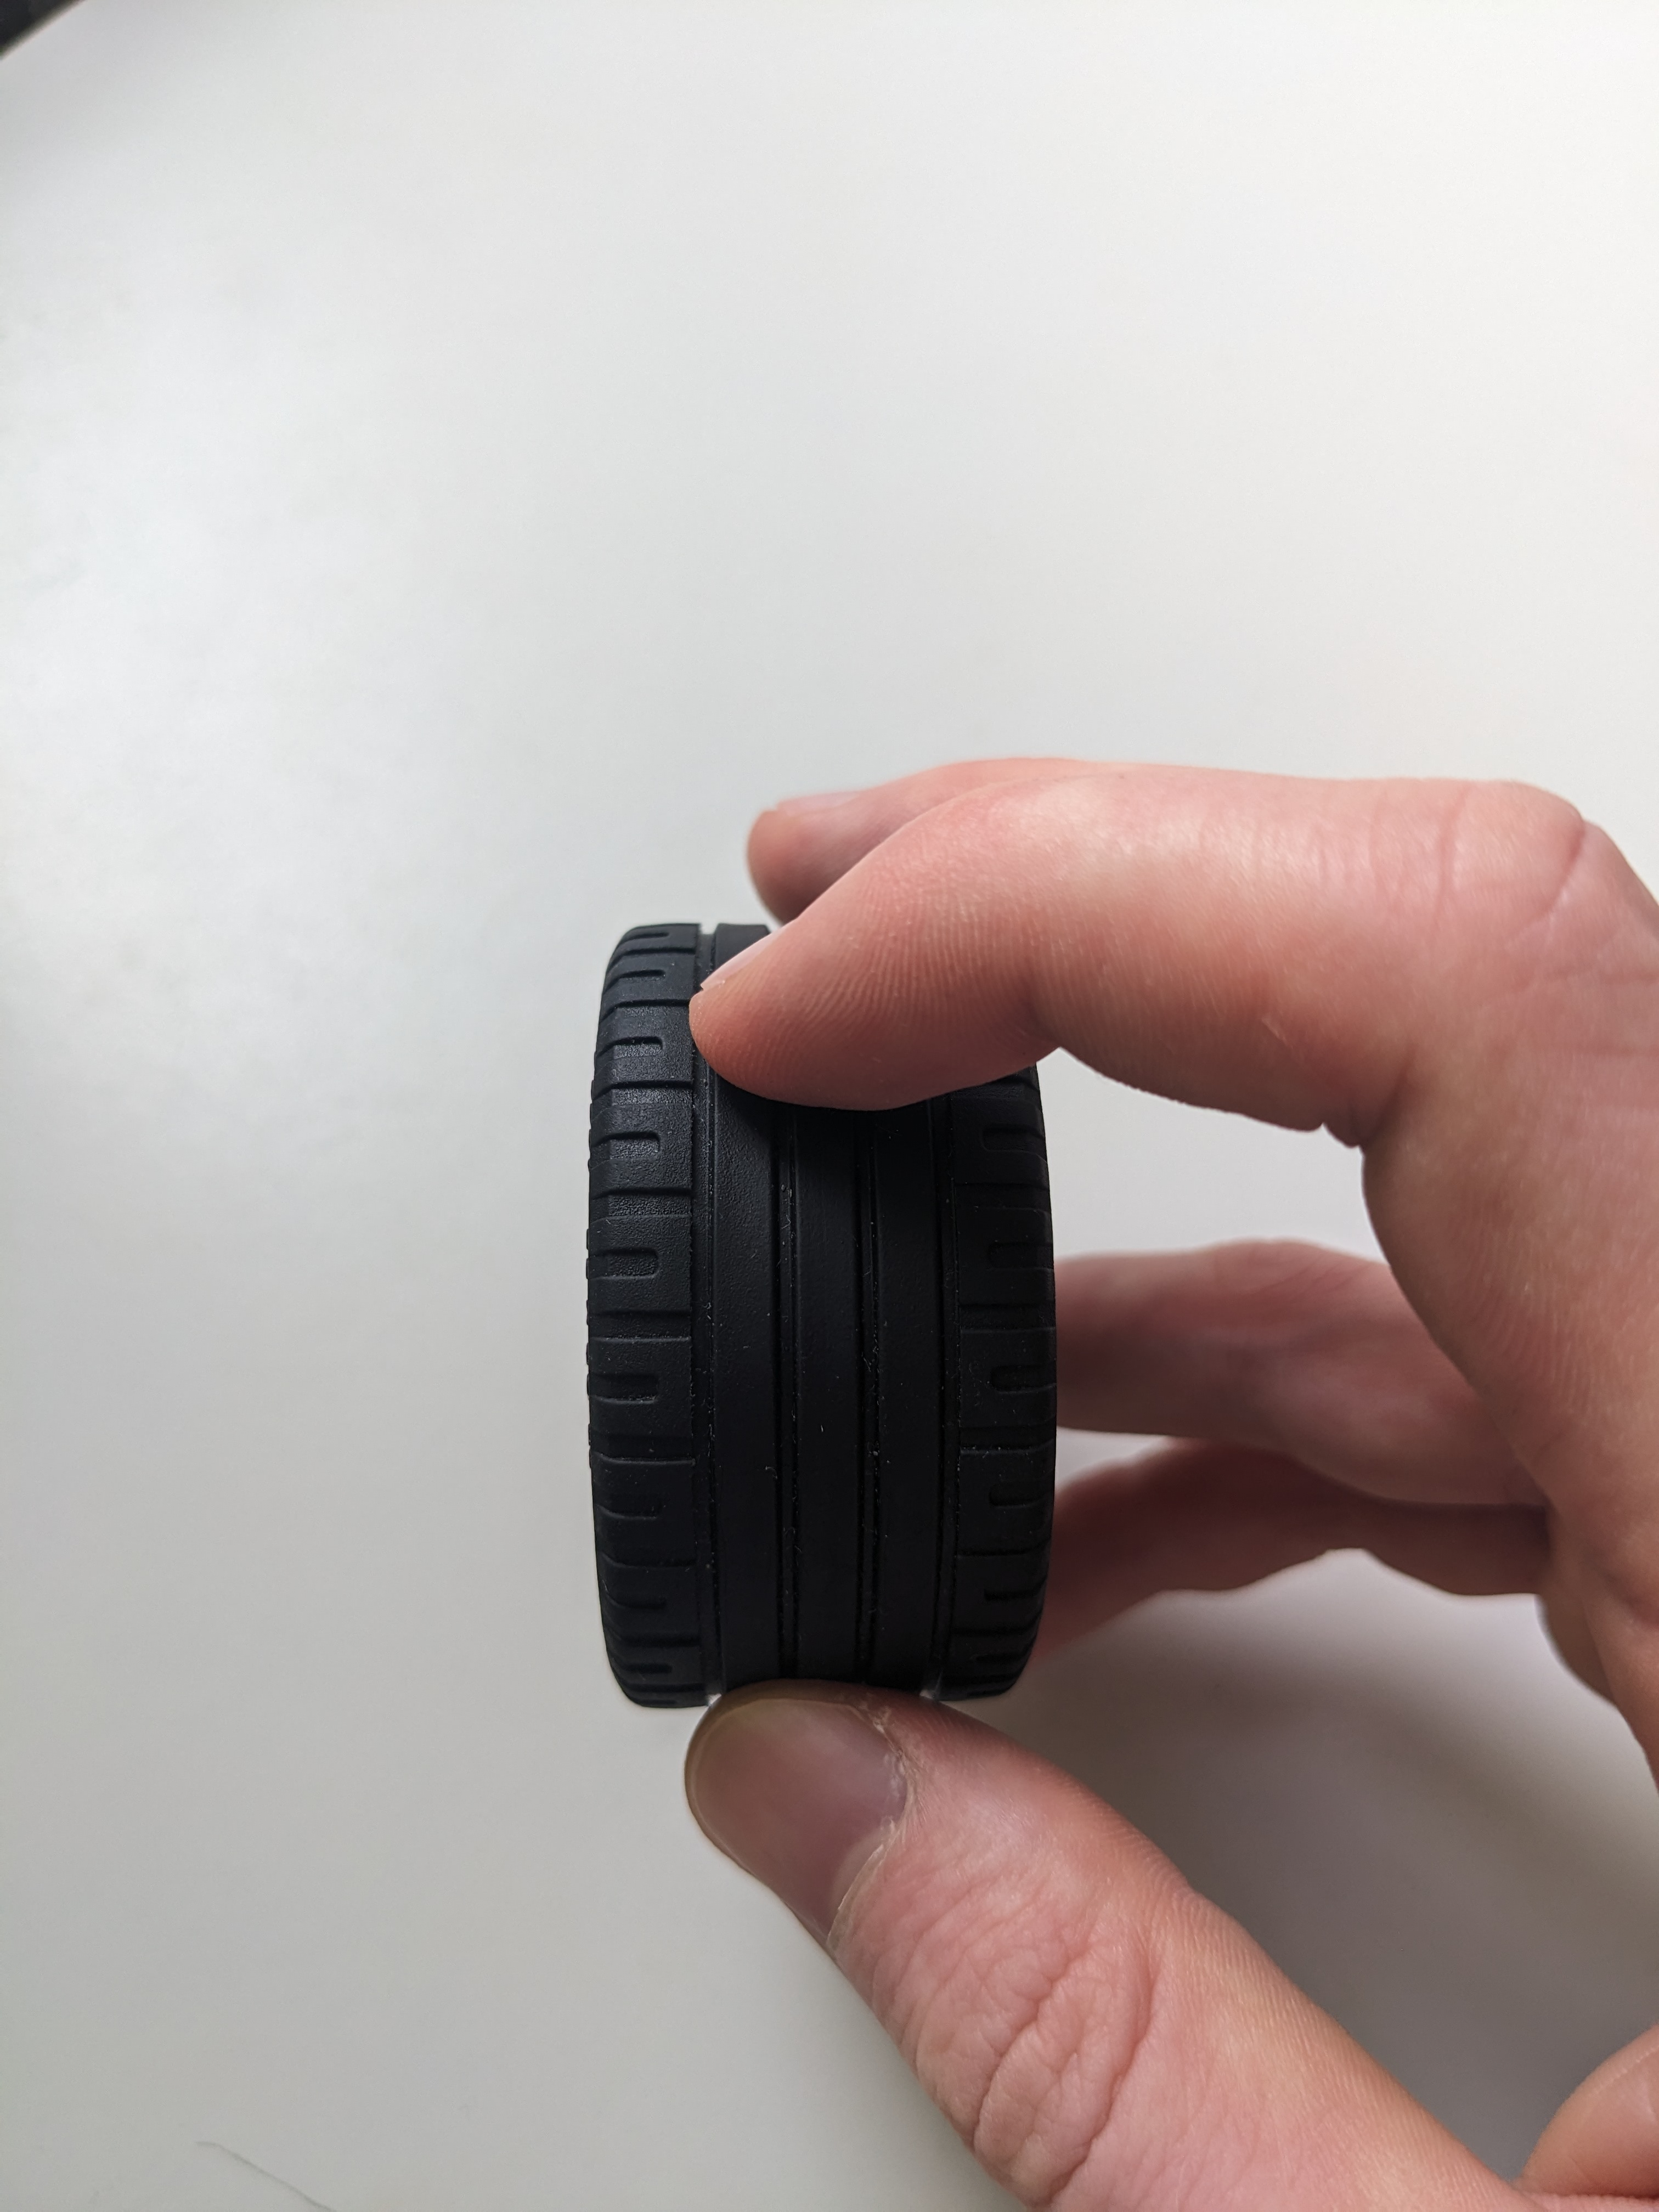Rad: (572, 885, 1082, 1738)
